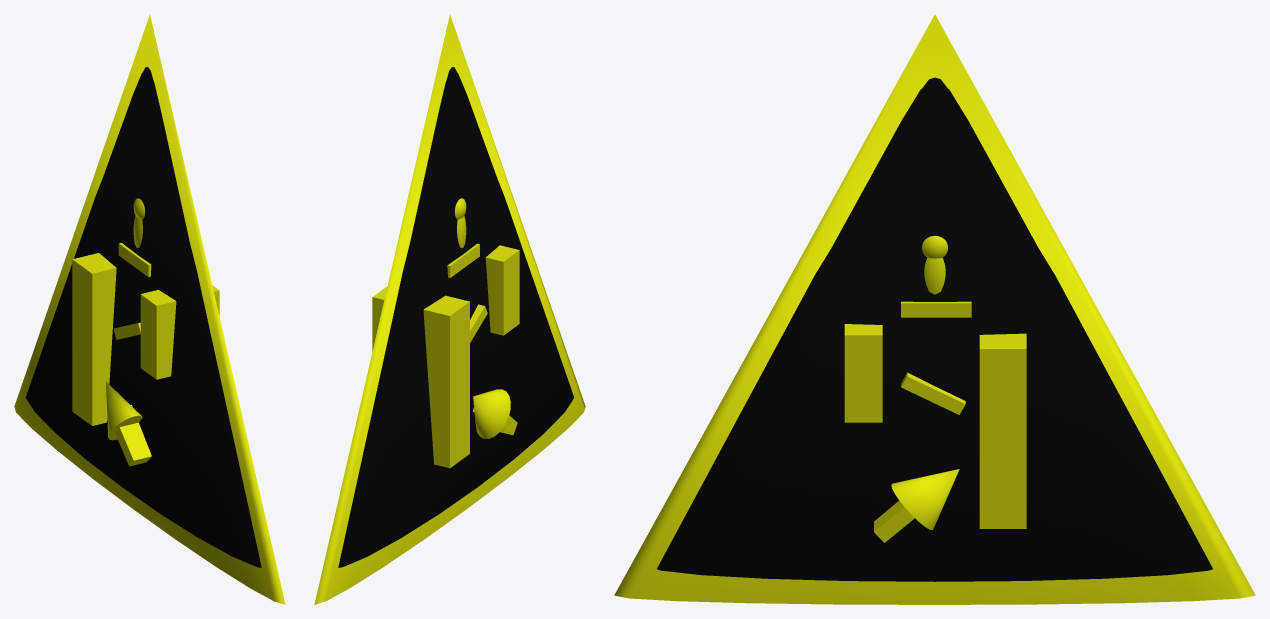
File: Hazard Wallrun.fbx
The picture shows the model from 3 angles, left to right: view 1: azimuth 30°, elevation 25°; view 2: azimuth 150°, elevation 25°; view 3: azimuth 270°, elevation 25°; orthographic projection. The views are drawn at different scales.
Visible parts, largest first — view 1: pasted__pCone2; view 2: pasted__pCone2; view 3: pasted__pCone2.
Part boxes in pixels (bbox=[...]): pasted__pCone2: bbox=[14, 14, 285, 604]; pasted__pCone2: bbox=[314, 14, 585, 604]; pasted__pCone2: bbox=[614, 14, 1255, 604].
Bounding box in the file's own units: 0.6942 × 3.23 × 3.23.
